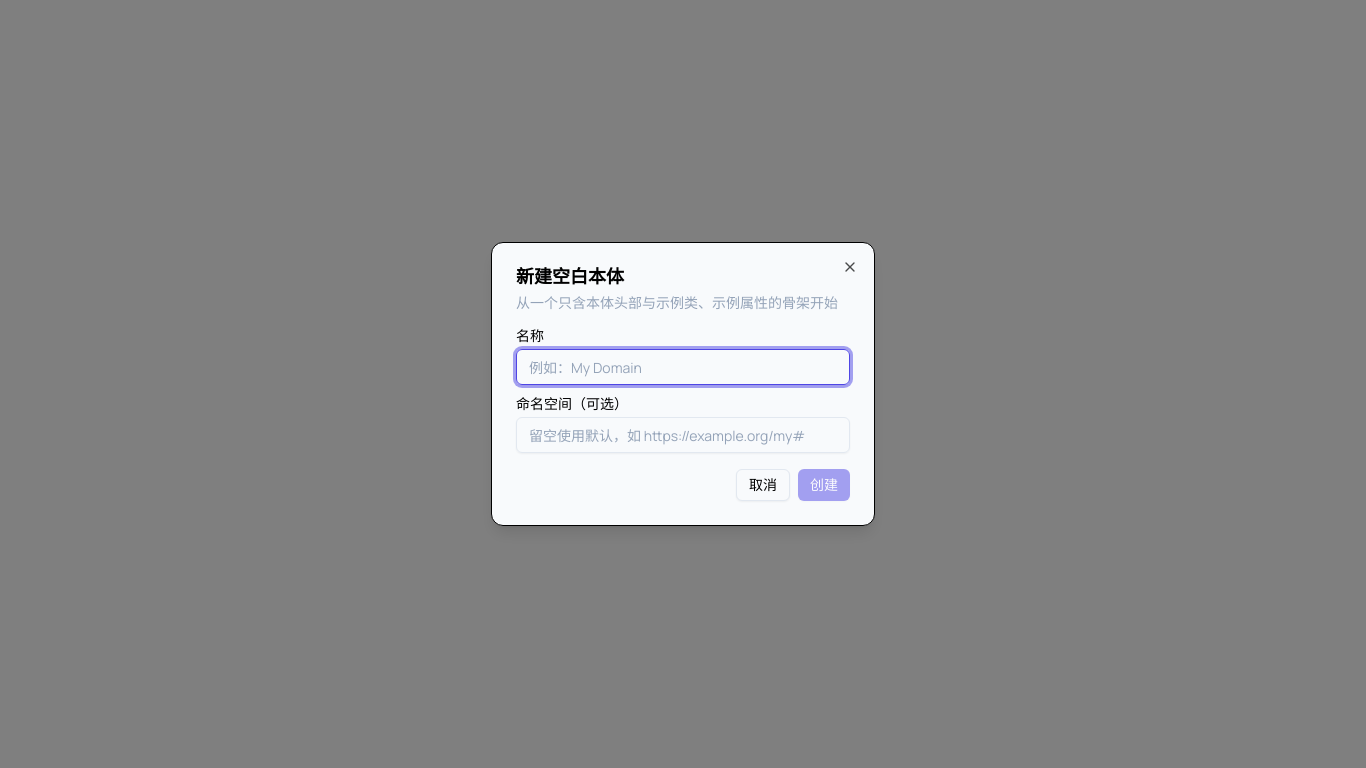
Test: keeps the dialog open with a duplicate hint on DUPLICATE_FILENAME
In the field labelled "名称": (683, 367) [516,349,850,385], type "dup"
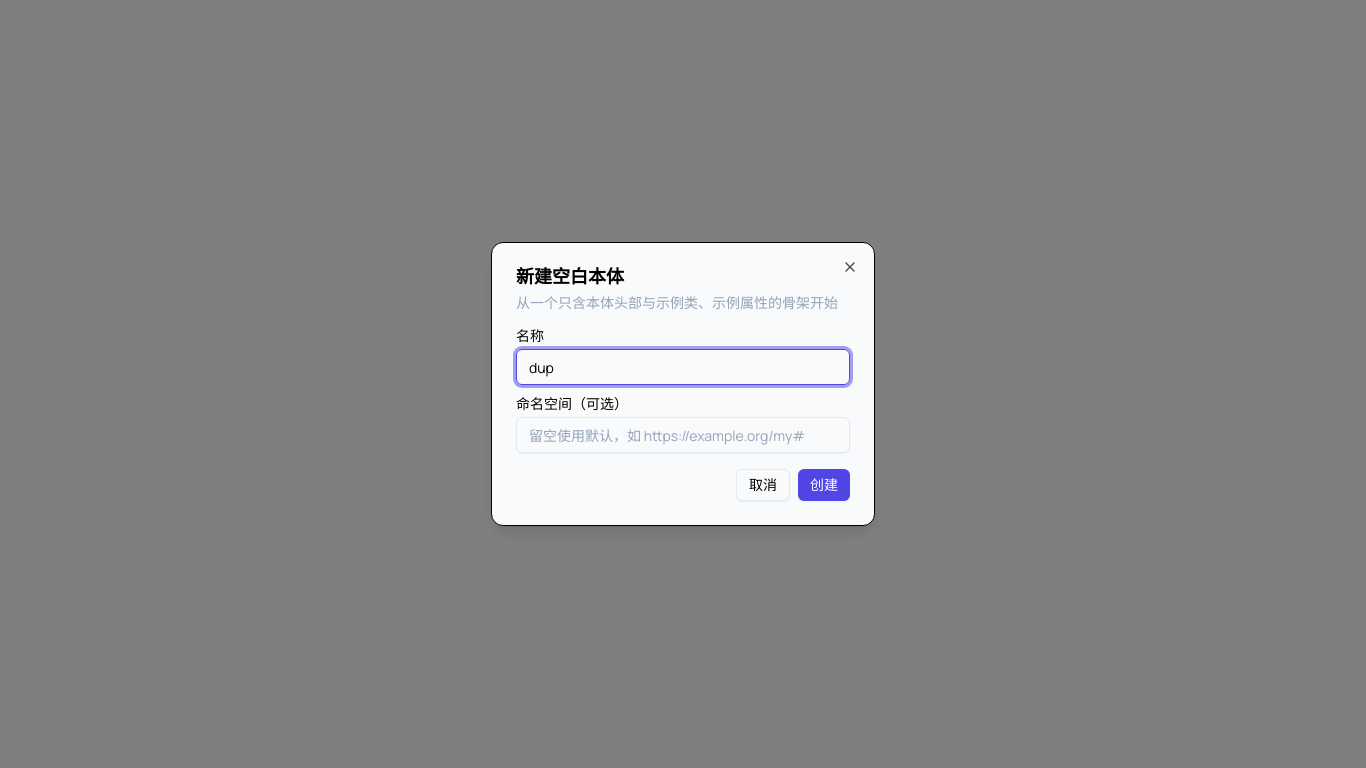
Click the button "创建": (824, 485) [798,469,850,501]
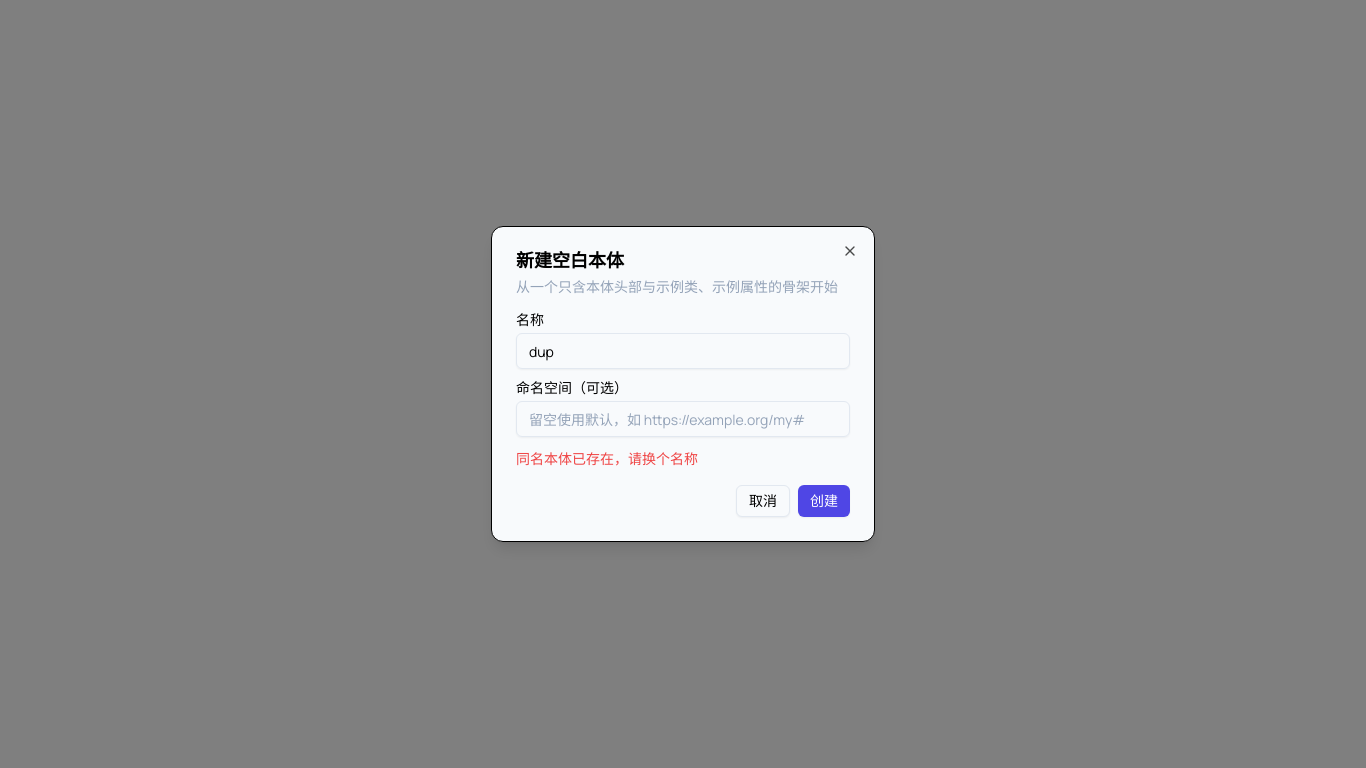
Expected: the text "同名本体已存在，请换个名称" is shown, [516,449,698,468]
